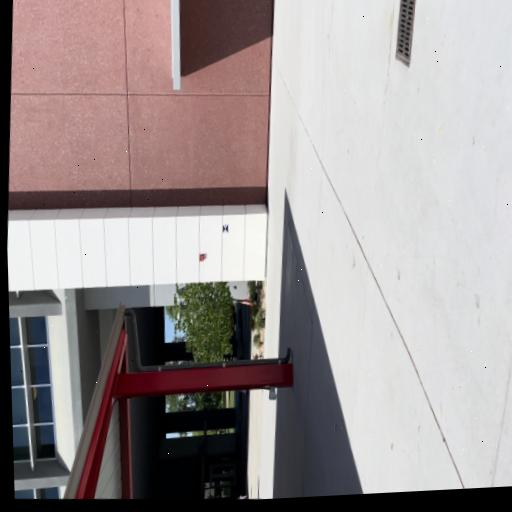target9: (223, 223, 229, 234)
